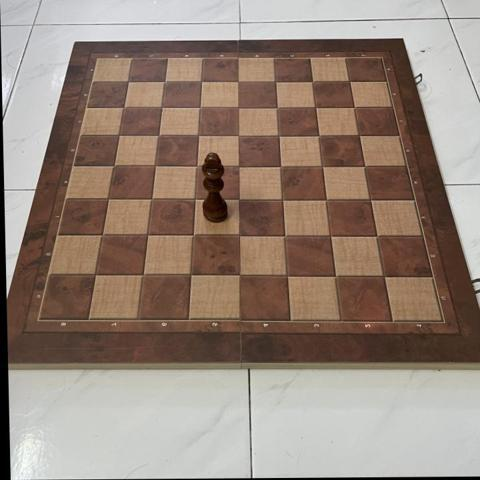xcorner: (119, 74, 136, 91), (156, 74, 173, 91), (193, 74, 210, 91), (230, 74, 247, 91), (305, 74, 322, 91), (342, 74, 359, 91), (115, 100, 132, 117), (153, 100, 170, 117), (192, 100, 209, 117), (269, 100, 286, 117), (308, 100, 325, 117), (346, 100, 363, 117), (110, 128, 127, 145), (150, 128, 167, 145), (190, 128, 207, 145), (271, 128, 288, 145), (311, 128, 328, 145), (147, 158, 164, 175), (189, 158, 206, 175), (231, 158, 248, 175), (143, 191, 160, 208), (187, 191, 204, 208), (231, 191, 248, 208), (318, 191, 335, 208), (362, 191, 379, 208), (231, 227, 248, 244), (277, 227, 294, 244), (87, 267, 104, 284), (135, 267, 152, 284), (183, 267, 200, 284), (231, 267, 248, 284), (279, 267, 296, 284), (327, 267, 344, 284), (375, 267, 392, 284), (268, 74, 284, 91), (231, 100, 247, 117), (231, 128, 247, 145), (351, 128, 368, 144), (105, 159, 122, 175), (273, 158, 289, 175), (315, 158, 331, 175), (357, 158, 373, 175), (100, 192, 117, 208), (275, 191, 291, 208), (94, 228, 111, 244), (139, 228, 156, 244), (185, 228, 202, 244), (323, 227, 339, 244), (369, 227, 385, 244)
